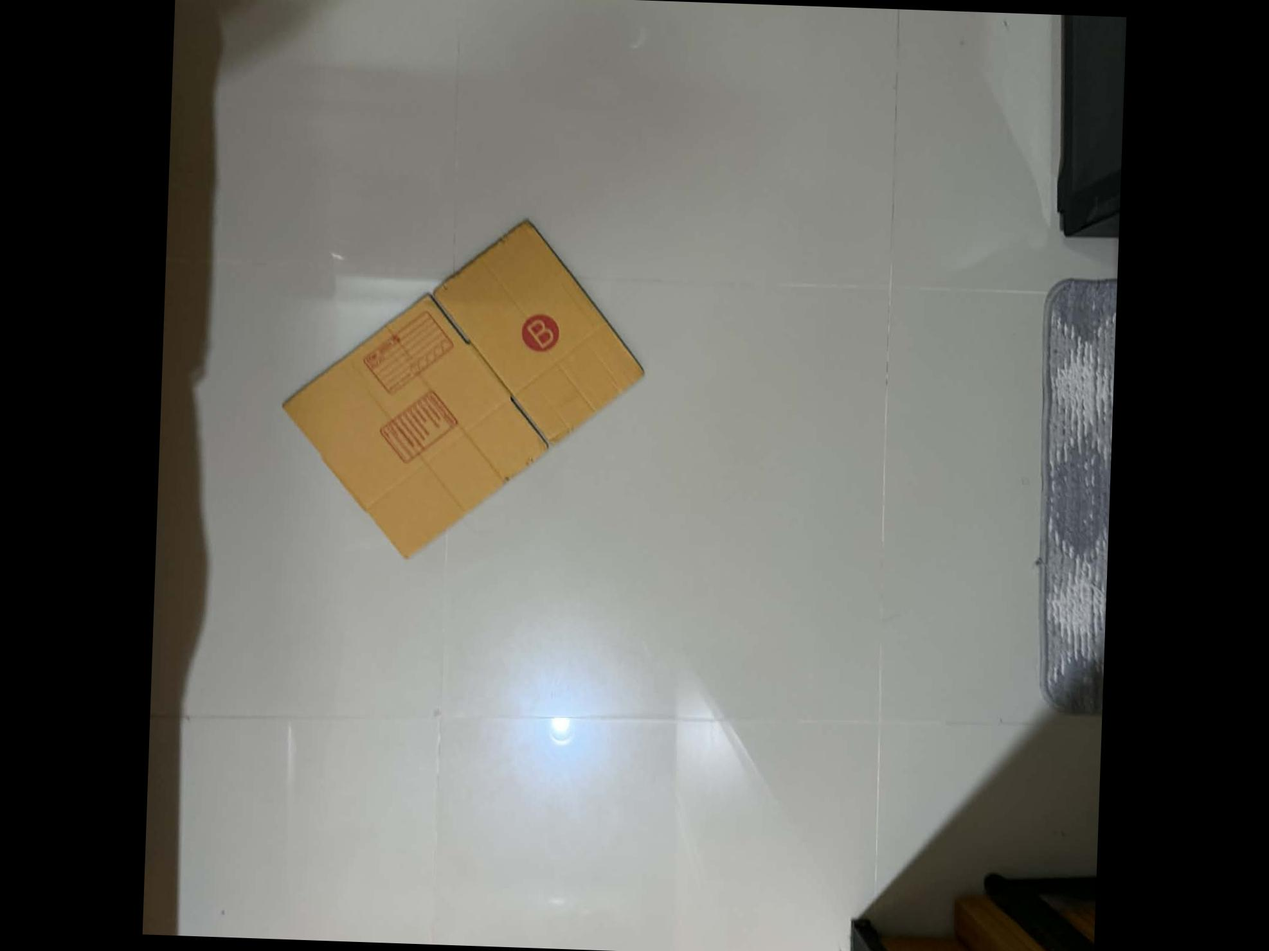box: (356, 305, 456, 393), (378, 388, 458, 468), (517, 312, 562, 356)
class0: (280, 210, 656, 572)
